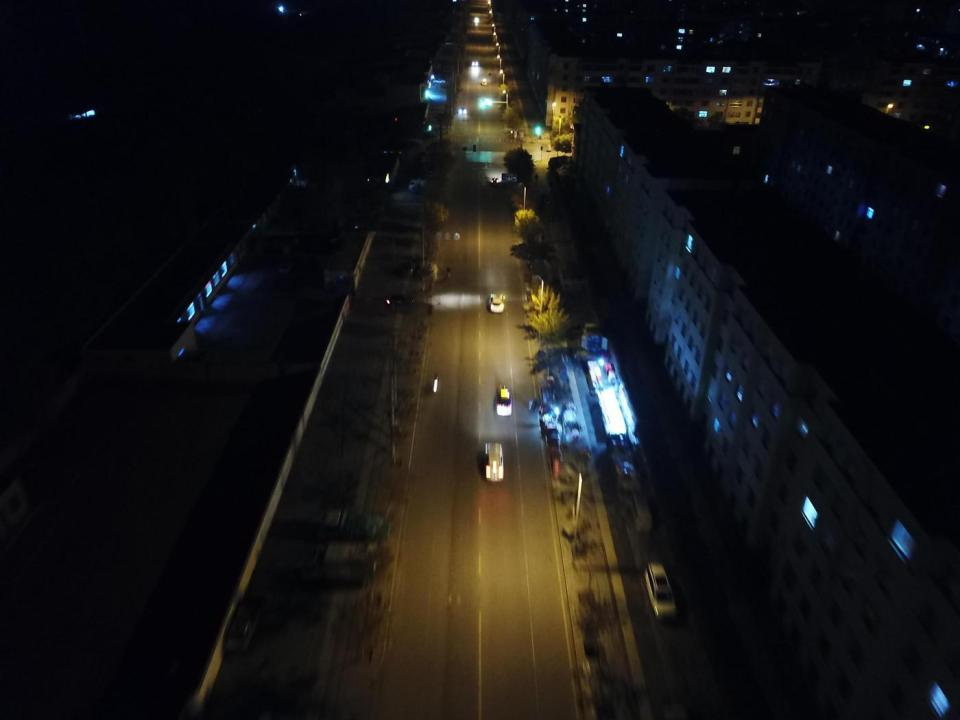car: (223, 596, 259, 652), (485, 442, 504, 483), (496, 384, 513, 417), (544, 420, 560, 453), (386, 294, 416, 311), (400, 262, 424, 278), (278, 257, 295, 272), (490, 294, 504, 312), (430, 93, 446, 100), (411, 185, 421, 194), (458, 105, 466, 114), (432, 78, 446, 83), (482, 98, 490, 106), (480, 78, 488, 86), (470, 59, 478, 66), (491, 177, 498, 184), (474, 16, 479, 23)
truck: (299, 543, 378, 587), (317, 507, 391, 544)
van: (644, 562, 676, 621), (628, 487, 653, 533), (409, 178, 428, 190)
